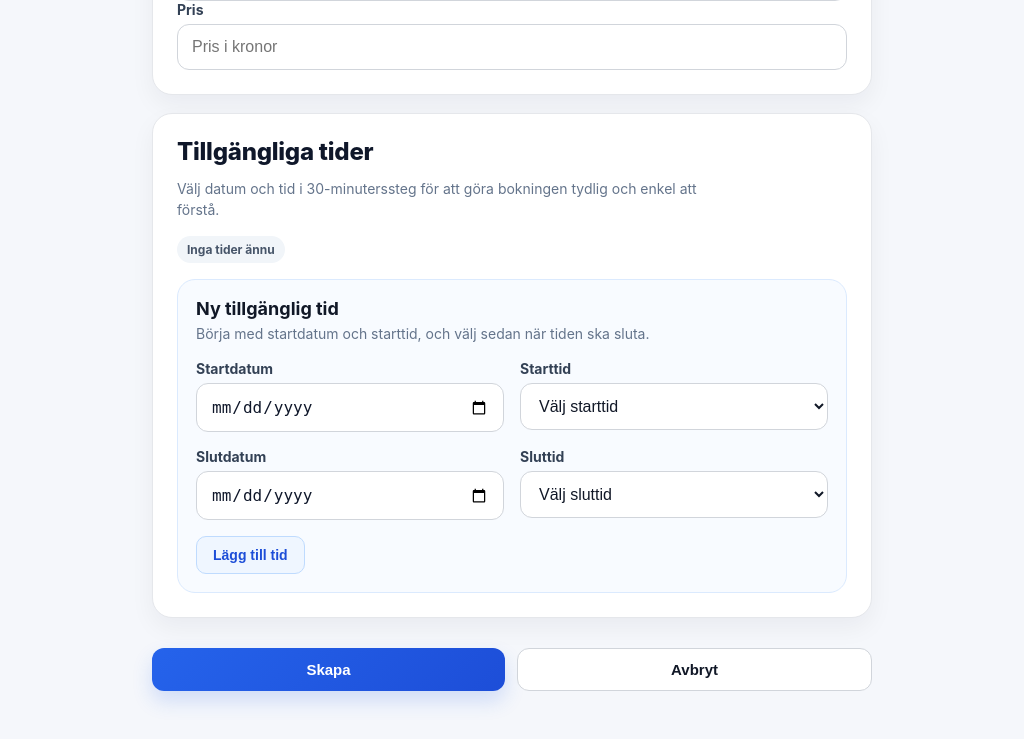
Scenario: CreateServicePage › kan ta bort en tillagd tid
(page scrolled)
Step 1. Type "2035-05-01" into the date field labelled "Startdatum" → (350, 408), box [196,383,504,432]
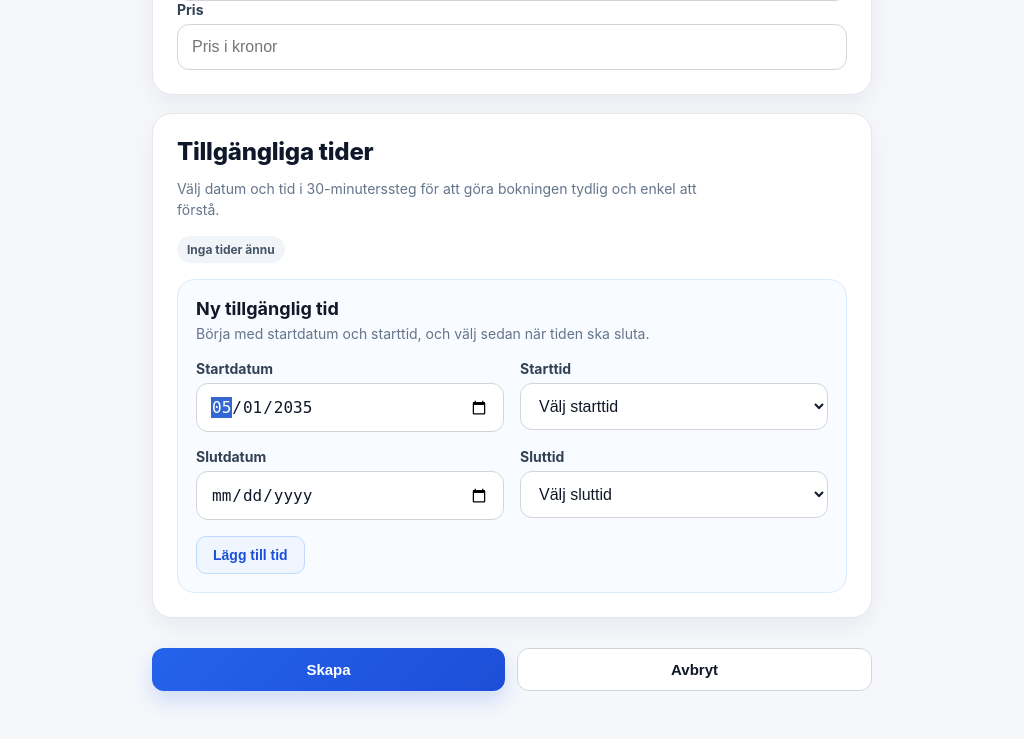
Step 2. Select "10:00" in the dropdown labelled "Starttid" → (674, 407), box [520,383,828,430]
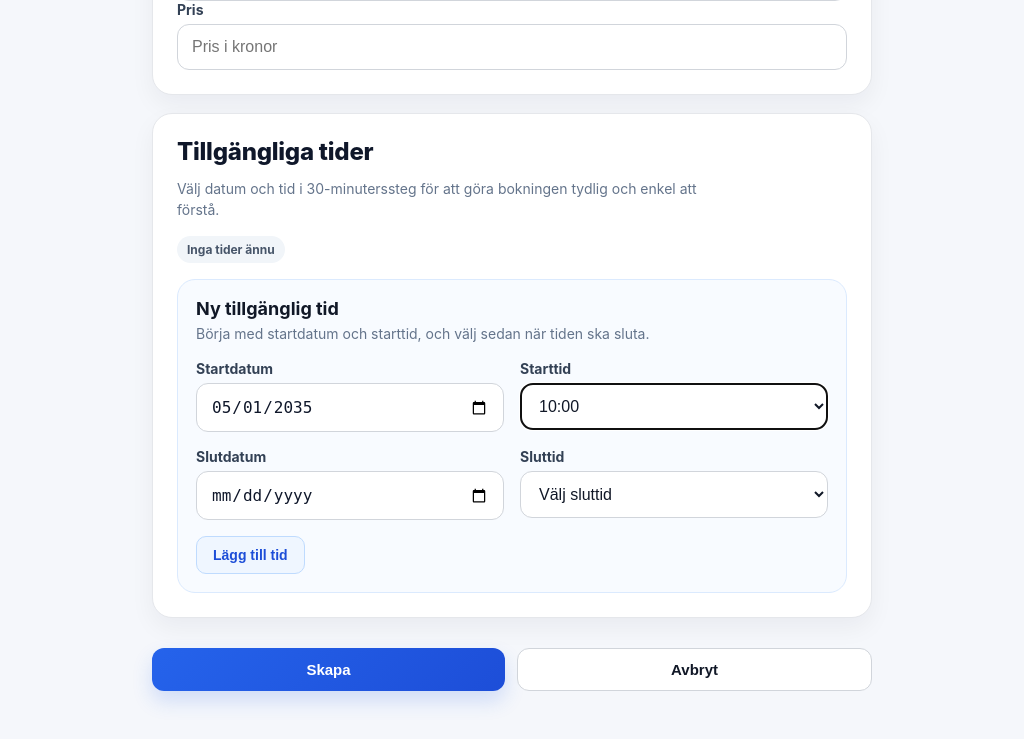
Step 3. Type "2035-05-01" into the date field labelled "Slutdatum" → (350, 496), box [196,471,504,520]
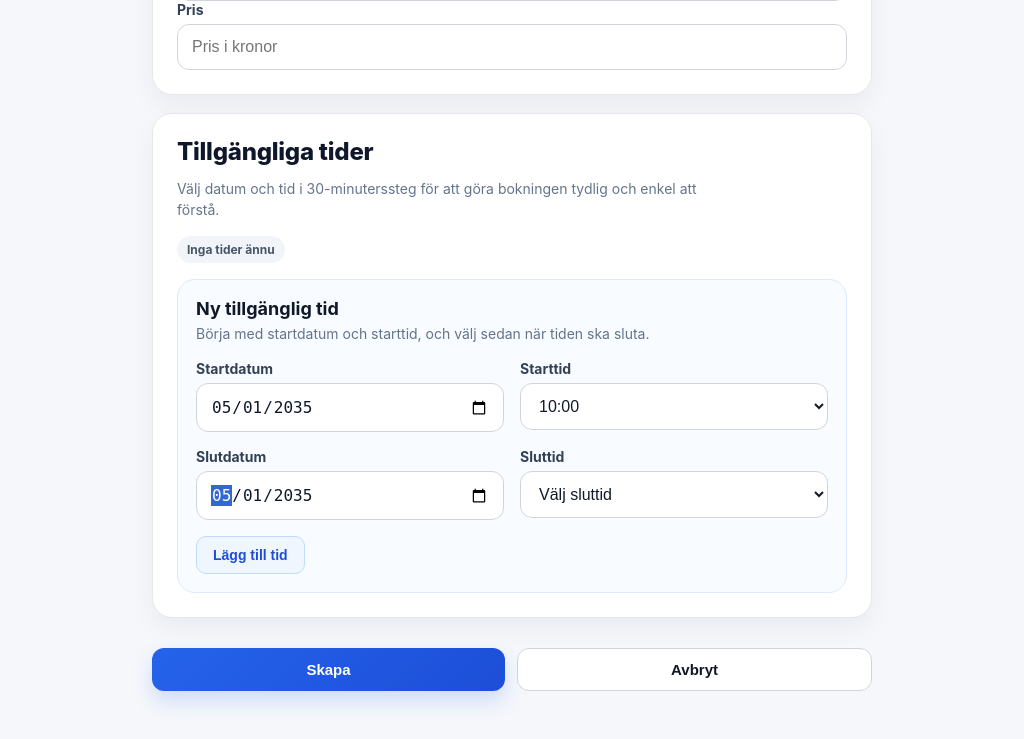
Step 4. Select "11:00" in the dropdown labelled "Sluttid" → (674, 495), box [520,471,828,518]
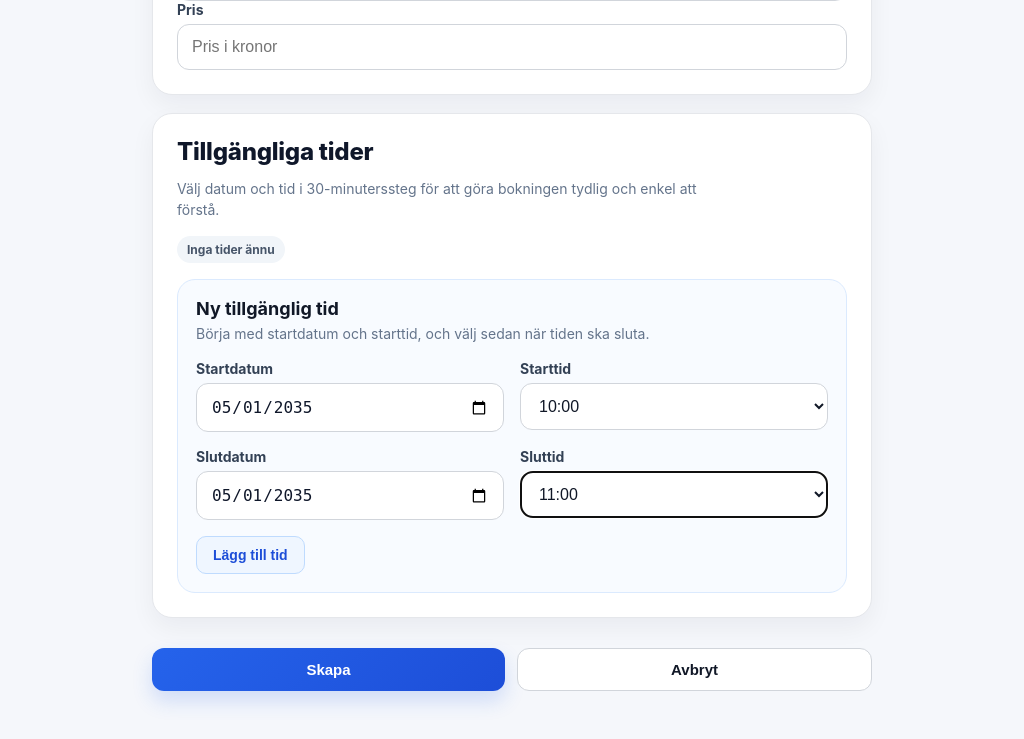
Step 5. Click the button "Lägg till tid" → (250, 555), box [196,536,305,574]
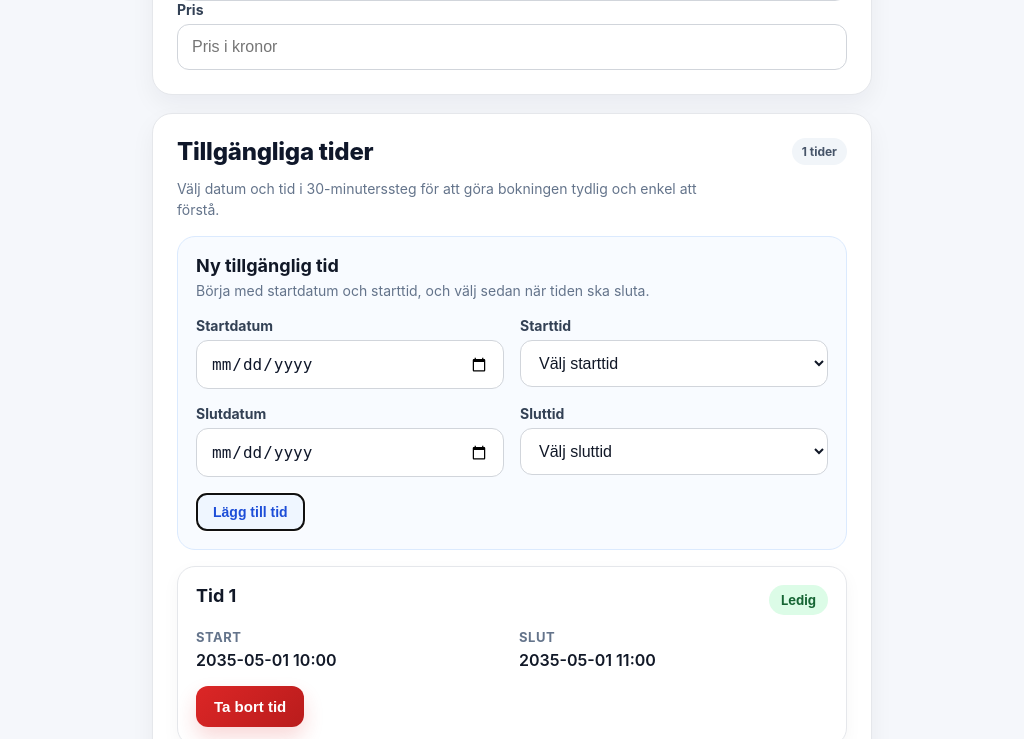
Expected: the heading "Tid 1" is shown, [196,585,236,606]
Step 6. Click the button "Ta bort tid" → (250, 706), box [196,686,304,727]
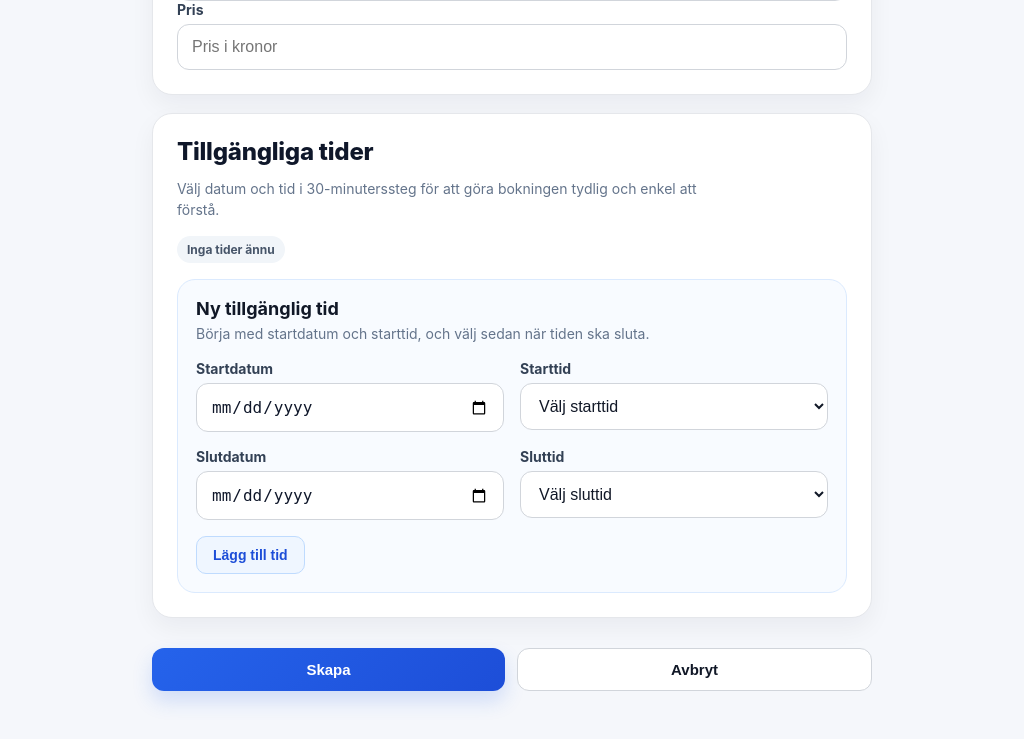
Expected: the heading "Tid 1" is gone
